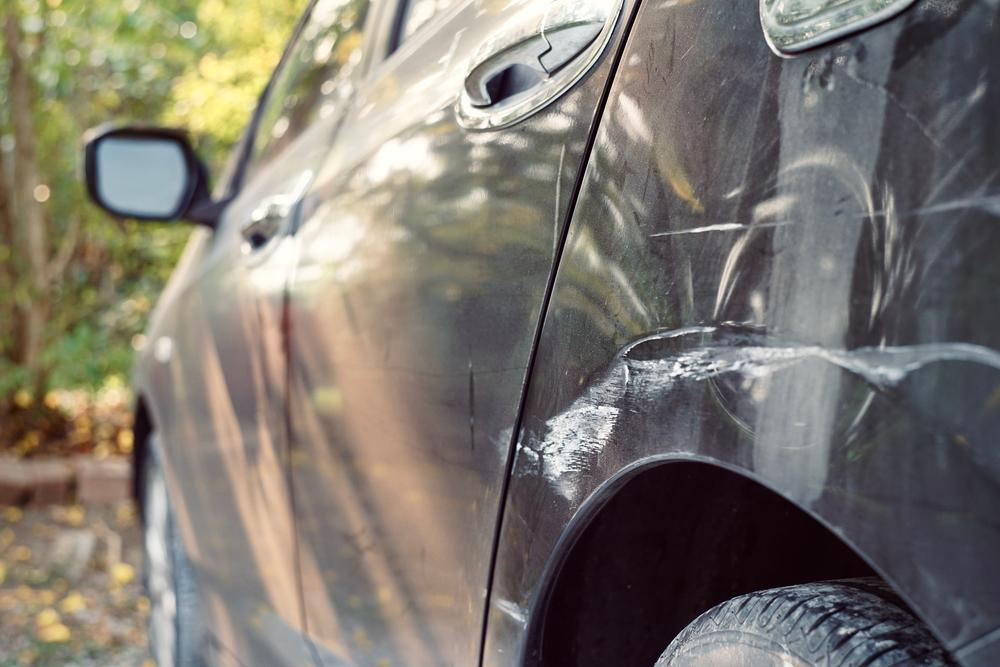scratch: (513, 325, 1000, 498)
